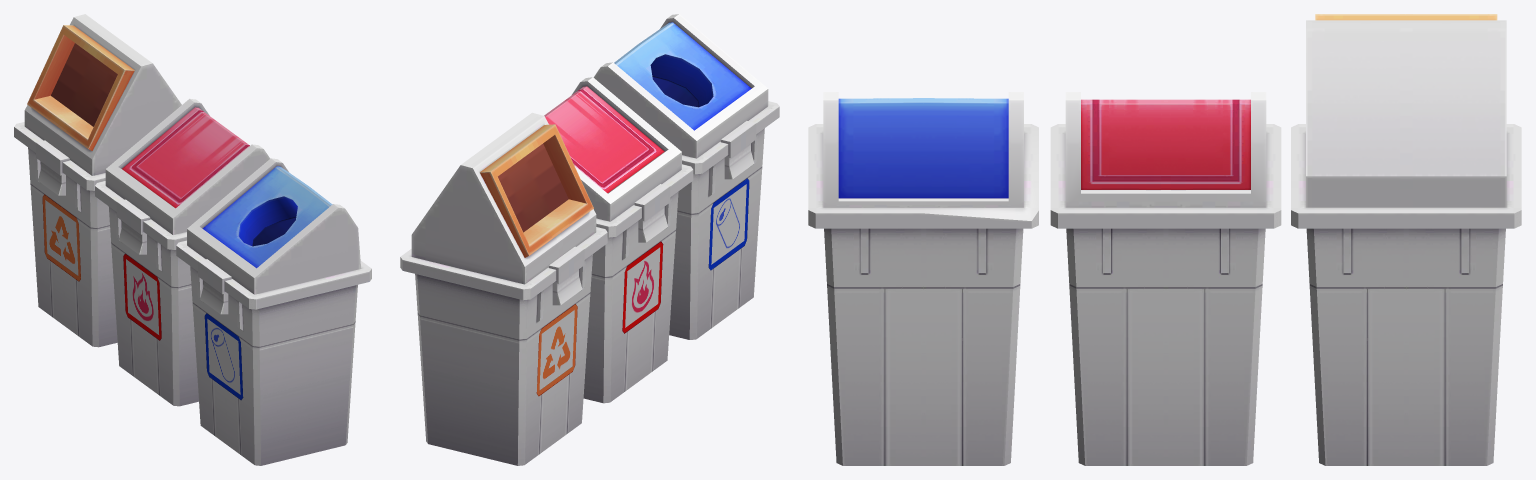
Rendered from my_abydosclassroom_01_wastebasket.glb.
3 views of the same model, side by side, from view 1: azimuth 30°, elevation 25°; view 2: azimuth 150°, elevation 25°; view 3: azimuth 270°, elevation 25° (orthographic). The views are drawn at different scales.
Parts seen in each view (by area): view 1: my_abydosclassroom_01_wastebasket; view 2: my_abydosclassroom_01_wastebasket; view 3: my_abydosclassroom_01_wastebasket.
Part boxes in pixels (<box>): my_abydosclassroom_01_wastebasket: <box>14,14,371,465</box>; my_abydosclassroom_01_wastebasket: <box>400,14,779,465</box>; my_abydosclassroom_01_wastebasket: <box>808,14,1521,465</box>.
Bounding box in the file's own units: 0.00313 × 0.00656 × 0.0104.
1 material, 1 textured.
